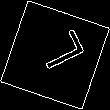L_SW: (25, 30, 85, 80)
